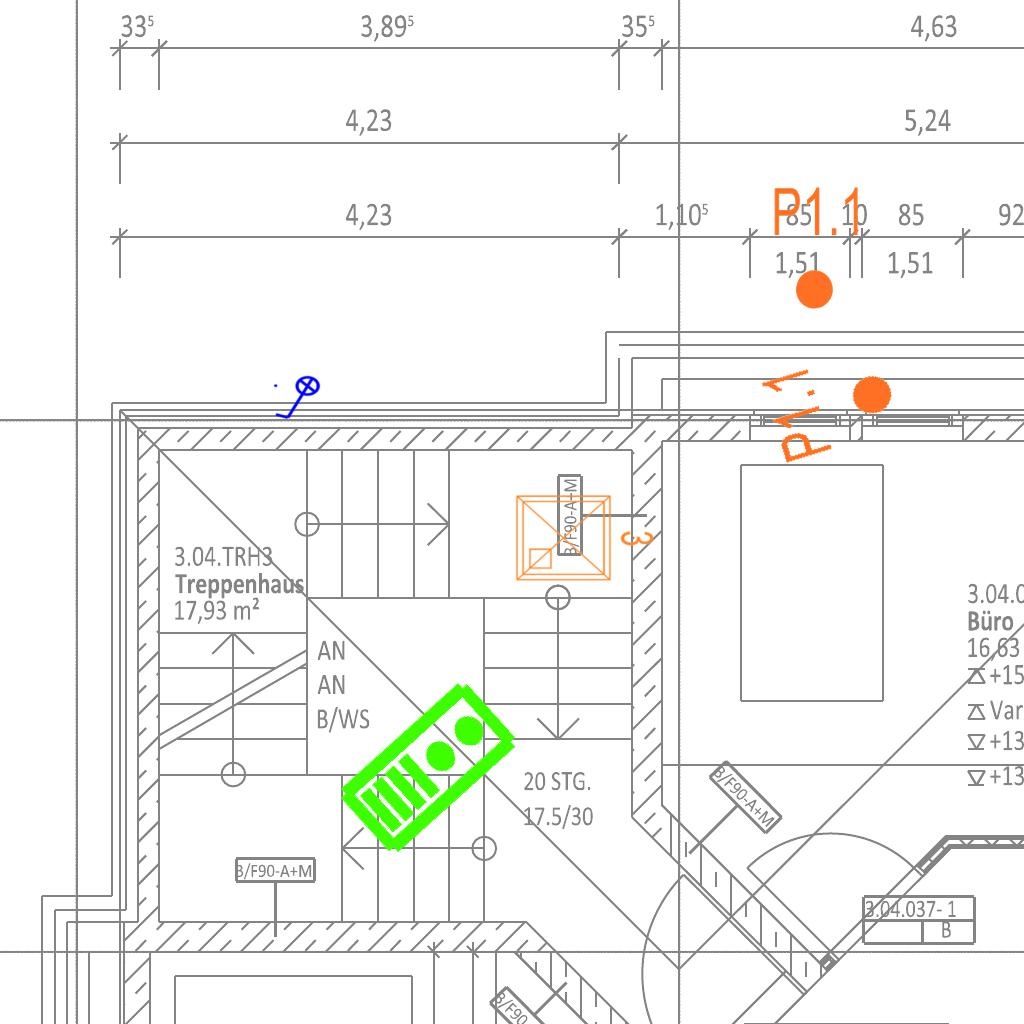Ausschalter_beleuchtet: (271, 375, 327, 423)
Downlight_LED_Einbauleuchten_Flur: (756, 340, 907, 468), (771, 184, 864, 312)
Einbaudownlights_LED_Konferenzraeume: (509, 484, 659, 588)
Gegensprechanlage_mit_Video: (330, 671, 525, 861)
